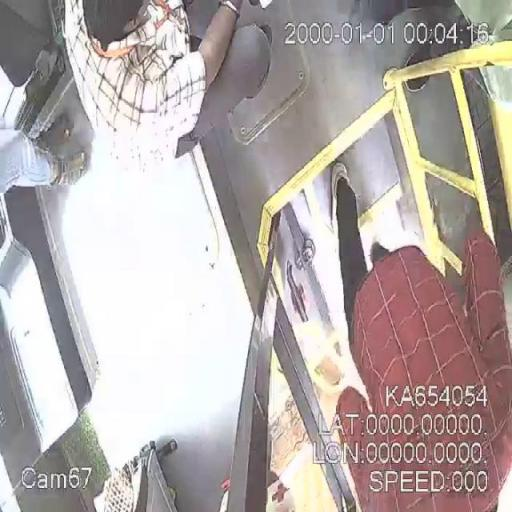persona: (328, 161, 511, 511), (58, 0, 278, 170)
